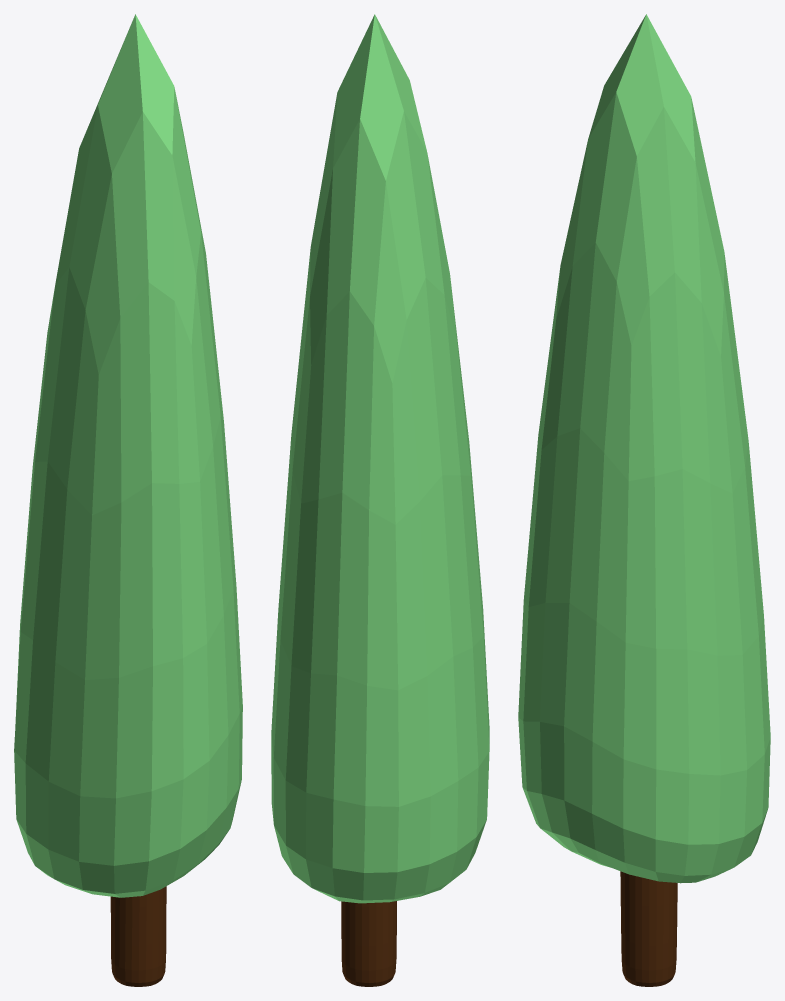
Rendered from Tree_01.fbx.
3 views of the same model, side by side, from view 1: azimuth 30°, elevation 25°; view 2: azimuth 150°, elevation 25°; view 3: azimuth 270°, elevation 25° (orthographic).
Parts seen in each view (by area): view 1: Tree; view 2: Tree; view 3: Tree.
Boxes of the visible parts, x1,y1,x2,y2 form: Tree: (14,14,242,986); Tree: (271,14,489,986); Tree: (518,14,770,986).
Bounding box in the file's own units: 184 × 907 × 216.
